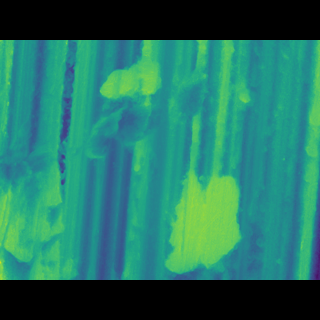Loch: (80, 68, 256, 162), (0, 121, 67, 239), (160, 161, 247, 250), (93, 68, 161, 118)
